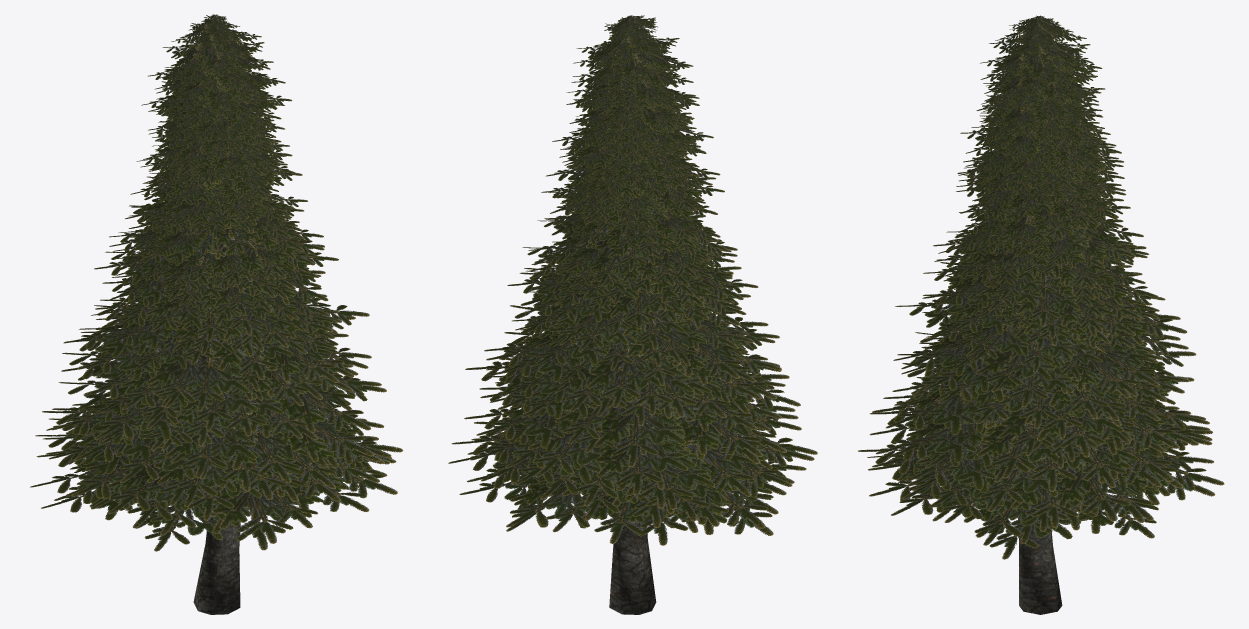
File: Black_Spruce.fbx
3 views of the same model, side by side, from view 1: azimuth 30°, elevation 25°; view 2: azimuth 150°, elevation 25°; view 3: azimuth 270°, elevation 25° (orthographic).
Parts seen in each view (by area): view 1: Tree, Stump; view 2: Tree, Stump; view 3: Tree, Stump.
Boxes of the visible parts, left/top/right/bottom form: Tree: left=30, top=14, right=403, bottom=551; Stump: left=193, top=531, right=240, bottom=614; Tree: left=448, top=15, right=817, bottom=545; Stump: left=609, top=527, right=656, bottom=614; Tree: left=858, top=15, right=1224, bottom=559; Stump: left=1018, top=532, right=1062, bottom=614.
Size of the model in its own units: 945 by 1535 by 909.
